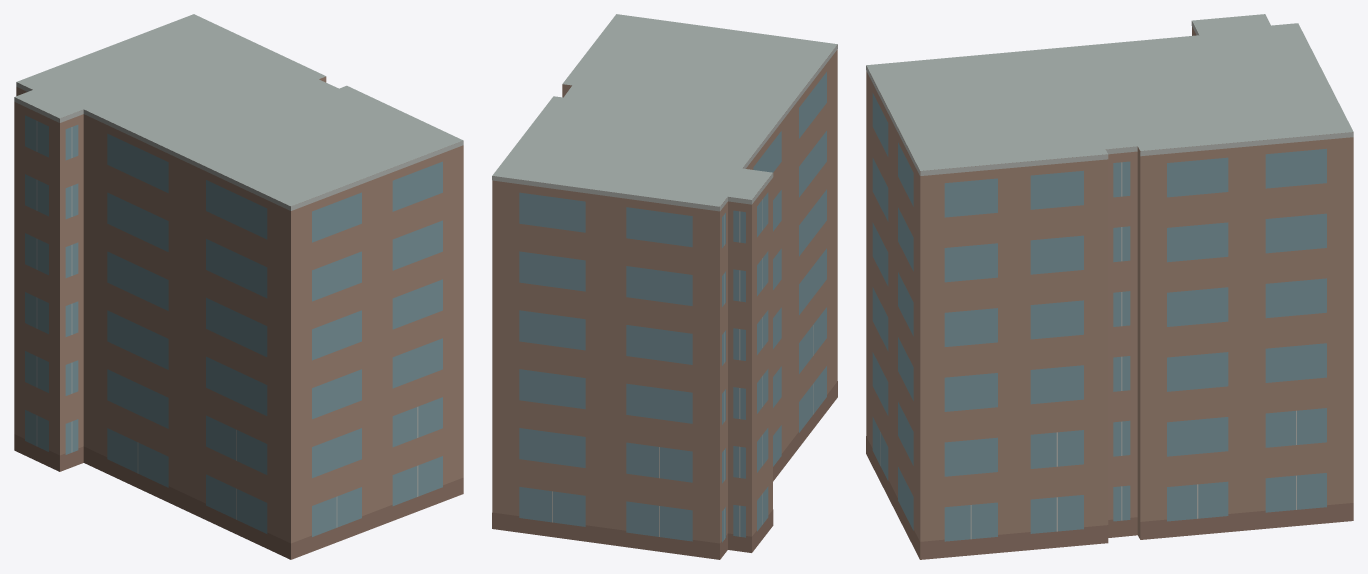
Rendered from survey-upis-32699327.glb.
The picture shows the model from 3 angles, left to right: view 1: azimuth 30°, elevation 25°; view 2: azimuth 150°, elevation 25°; view 3: azimuth 270°, elevation 25°; orthographic projection. The views are drawn at different scales.
Parts seen in each view (by area): view 1: survey-upis-32699327.tmp; view 2: survey-upis-32699327.tmp; view 3: survey-upis-32699327.tmp.
Part boxes in pixels (bbox=[...]): survey-upis-32699327.tmp: bbox=[14, 14, 463, 559]; survey-upis-32699327.tmp: bbox=[492, 14, 837, 559]; survey-upis-32699327.tmp: bbox=[866, 14, 1353, 559].
Bounding box in the file's own units: 16.03 × 18.5 × 21.03.
